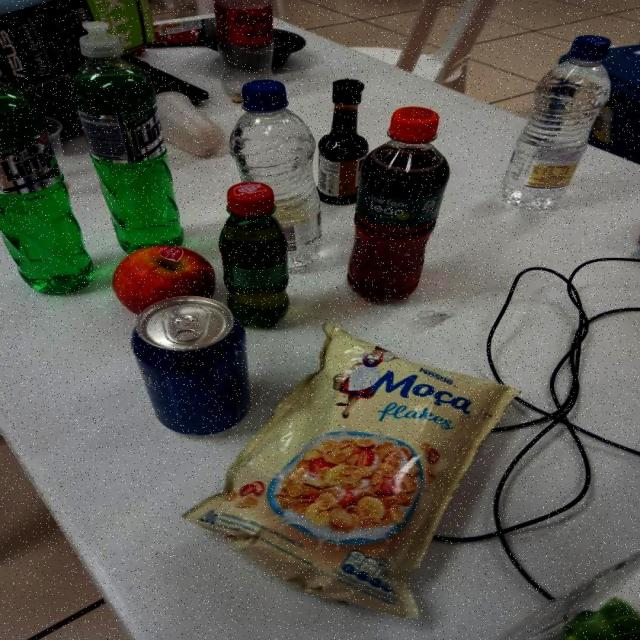Apple: (112, 245, 216, 316)
Cleaner: (68, 21, 182, 254), (0, 84, 93, 296)
CornFlakes: (181, 324, 520, 624)
EnglishSauce: (315, 79, 369, 205)
Guarana: (218, 181, 290, 330)
IceTea: (348, 107, 450, 305)
Tonic: (130, 296, 252, 438)
Water: (499, 36, 613, 215), (229, 80, 322, 272)
